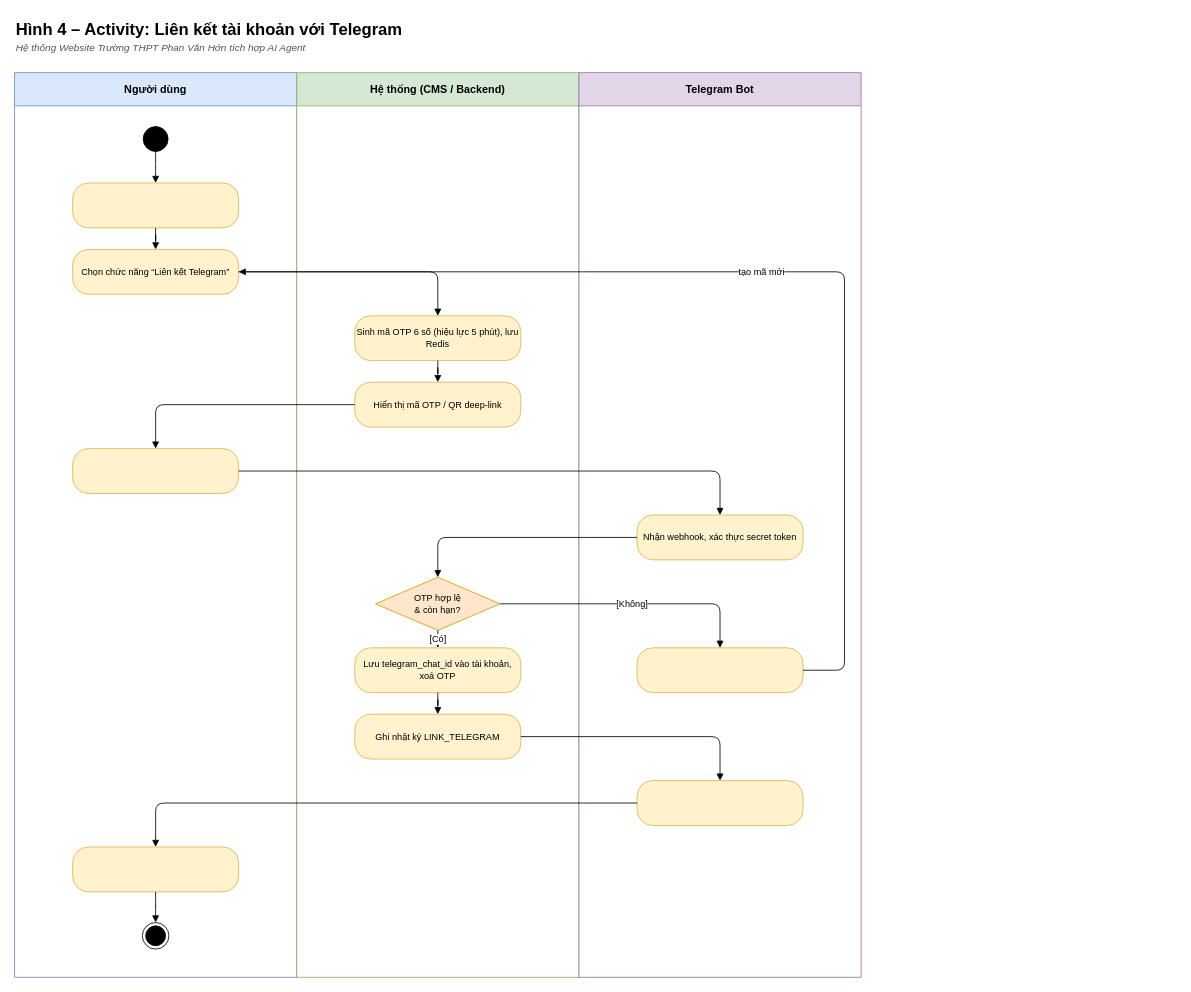
Image size: 1191x992. Some labels were removed from this diagram. Here are the shapes that lost their labels. From the top down, the centre of each, then its label:
the point at 155,205: Đăng nhập trang quản trị
the point at 155,470: Mở bot trên điện thoại, gửi /start <OTP>
the point at 719,670: Báo lỗi: mã sai / hết hạn
the point at 719,802: Gửi lời chào & danh sách lệnh theo quyền
the point at 155,869: Nhận xác nhận liên kết thành công
